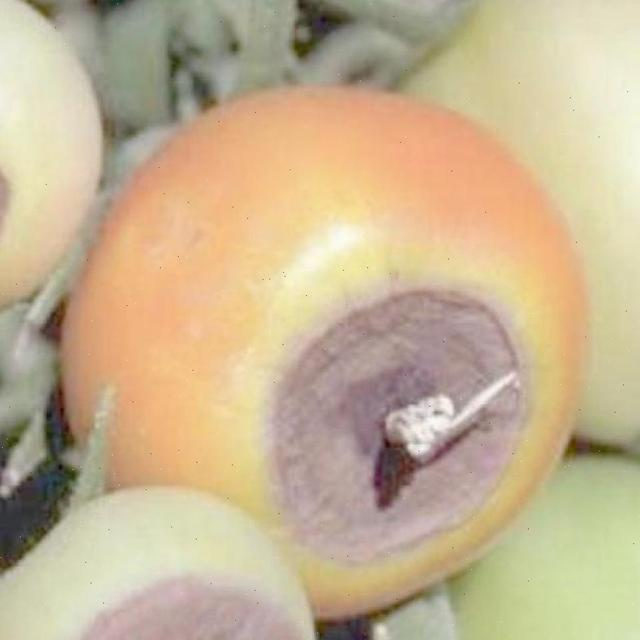Blossom End Rot Fruit: (4, 48, 263, 403)
